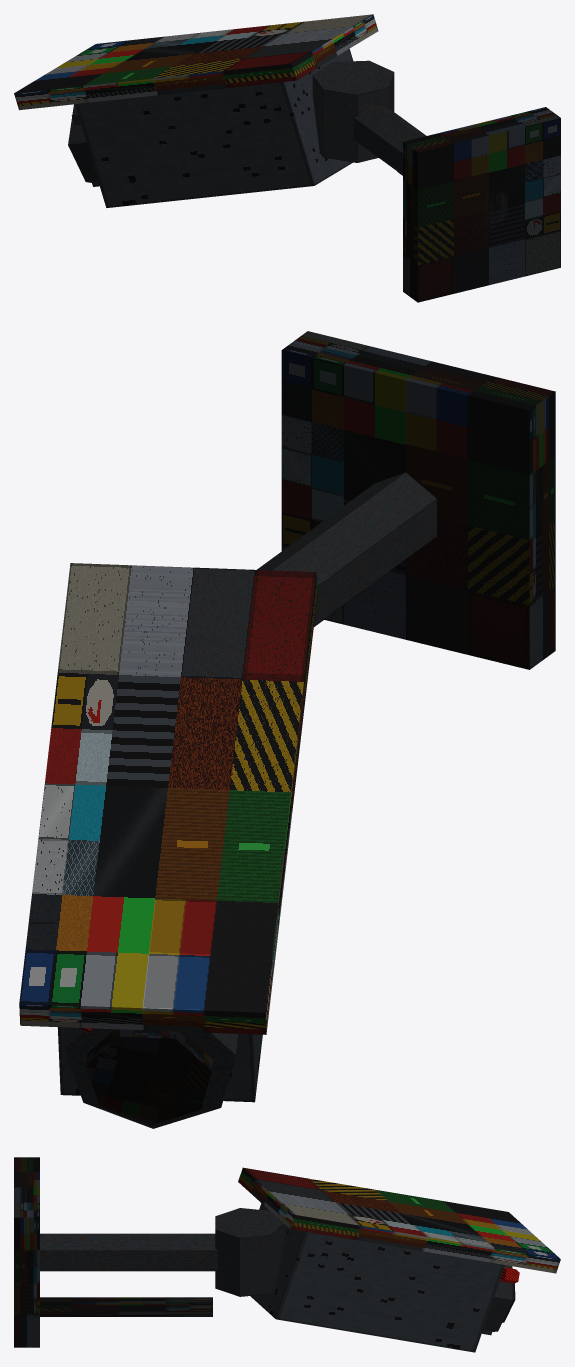
Rendered from security_camera.glb.
3 views of the same model, one above another, from view 1: azimuth 30°, elevation 25°; view 2: azimuth 150°, elevation 25°; view 3: azimuth 270°, elevation 25° (orthographic). The views are drawn at different scales.
Visible parts, largest first — view 1: security_camera; view 2: security_camera; view 3: security_camera.
Part boxes in pixels (x1,y1,x2,y2): security_camera: [14, 14, 560, 302]; security_camera: [19, 331, 555, 1128]; security_camera: [14, 1157, 560, 1352].
Size of the model in its own units: 0.2008 by 0.1622 by 0.4204.
Materials: 1 (1 with a texture image).
